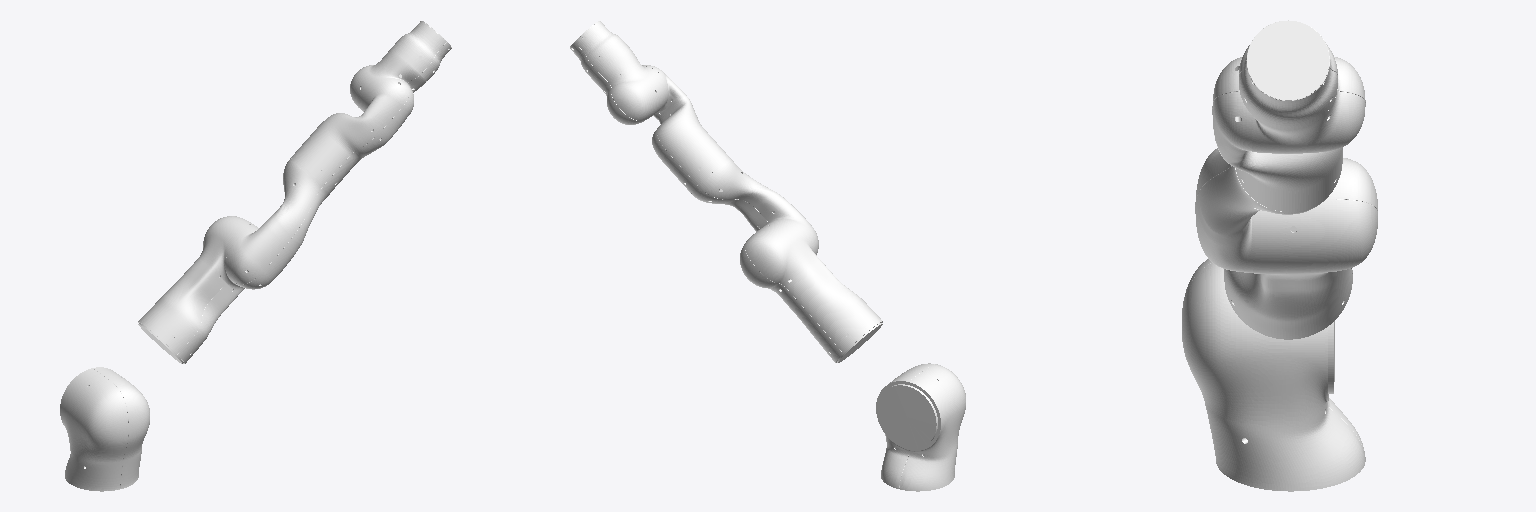
URDF robot description (optimo):
<?xml version="1.0" ?>
<!-- =================================================================================== -->
<!-- |    This document was autogenerated by xacro from optimo.urdf.xacro              | -->
<!-- |    EDITING THIS FILE BY HAND IS NOT RECOMMENDED                                 | -->
<!-- =================================================================================== -->
<robot name="optimo">
  <material name="white">
    <color rgba="1.0 1.0 1.0 1.0"/>
  </material>
  <link name="world"/>
<joint name="world_to_link0" type="fixed">
    <parent link="world"/>
    <child link="optimo_link0"/>
    <origin rpy="0 0 0" xyz="0 0 .27"/>
  </joint>
  <link name="optimo_link0">
    <visual>
      <geometry>
        <mesh filename="meshes/J0_clean.stl"/>
      </geometry>
      <material name="white"/>
    </visual>
    <collision>
      <geometry>
        <mesh filename="meshes/col0.stl"/>
      </geometry>
    </collision>
    <inertial>
      <origin xyz="0 0 0"/>
      <mass value="1"/>
      <inertia ixx="0" ixy="0.0" ixz="0.0" iyy="0" iyz="0.0" izz="0"/>
    </inertial>
  </link>
  <joint name="optimo_joint1" type="revolute">
    <origin rpy="0 0 0" xyz="0 0 0"/>
    <parent link="optimo_link0"/>
    <child link="optimo_link1"/>
    <axis xyz="0 0 1"/>
    <limit effort="79" lower="-2.0943951012" upper="2.0943951012" velocity="10"/>
    <dynamics damping=".5" friction=".2"/>
  </joint>
  <link name="optimo_link1">
    <visual>
      <origin rpy="1.5707963267948966 0 0" xyz="0 0 0"/>
      <geometry>
        <mesh filename="meshes/J1_clean.stl"/>
      </geometry>
      <material name="white"/>
    </visual>
    <collision>
      <origin rpy="1.5707963267948966 0 0" xyz="0 0 0"/>
      <geometry>
        <mesh filename="meshes/col1.stl"/>
      </geometry>
    </collision>
    <inertial>
      <origin xyz="0 -0.01549 -0.01635 "/>
      <mass value="4.152"/>
      <inertia ixx="0.01" ixy="0" ixz="0" iyy="0.01" iyz="0" izz="0.006"/>
    </inertial>
  </link>
  <joint name="optimo_joint2" type="revolute">
    <origin rpy="1.5707963267948966 0 0" xyz="0 0 0"/>
    <parent link="optimo_link1"/>
    <child link="optimo_link2"/>
    <axis xyz="0 0 1"/>
    <limit effort="95" lower="1.13446401315" upper="3.40339203945" velocity="10"/>
    <dynamics damping=".5" friction=".2"/>
  </joint>
  <link name="optimo_link2">
    <visual>
      <origin rpy="1.5707963267948966 0 0" xyz="0 0 0.003"/>
      <geometry>
        <mesh filename="meshes/J2_clean.stl"/>
      </geometry>
      <material name="white"/>
    </visual>
    <collision>
      <origin rpy="1.5707963267948966 0 0" xyz="0 0 0"/>
      <geometry>
        <mesh filename="meshes/col2.stl"/>
      </geometry>
    </collision>
    <inertial>
      <origin xyz="0 -0.05677 -0.05063 "/>
      <mass value="1.72"/>
      <inertia ixx="0.004" ixy="0" ixz="0" iyy="0.003" iyz="0" izz="0.005"/>
    </inertial>
  </link>
  <joint name="optimo_joint3" type="revolute">
    <origin rpy="1.5707963267948966 0 0" xyz="0.0 -0.397 0.003"/>
    <parent link="optimo_link2"/>
    <child link="optimo_link3"/>
    <axis xyz="0 0 1"/>
    <limit effort="32" lower="-2.0943951012" upper="2.0943951012" velocity="10"/>
    <dynamics damping=".5" friction=".2"/>
  </joint>
  <link name="optimo_link3">
    <visual>
      <origin rpy="-1.5707963267948966 0 0" xyz="0 0 0"/>
      <geometry>
        <mesh filename="meshes/J3_clean.stl"/>
      </geometry>
      <material name="white"/>
    </visual>
    <collision>
      <origin rpy="-1.5707963267948966 0 0" xyz="0 0 0"/>
      <geometry>
        <mesh filename="meshes/col3.stl"/>
      </geometry>
    </collision>
    <inertial>
      <origin xyz="0 0 -0.098"/>
      <mass value="4.310"/>
      <inertia ixx="0.013" ixy="0" ixz="0" iyy="0.013" iyz="0" izz="0.003"/>
    </inertial>
  </link>
  <joint name="optimo_joint4" type="revolute">
    <origin rpy="-1.5707963267948966 0 0" xyz="0 0 0"/>
    <parent link="optimo_link3"/>
    <child link="optimo_link4"/>
    <axis xyz="0 0 1"/>
    <limit effort="40" lower="-2.4434609514" upper="0.08726646254999999" velocity="10"/>
    <dynamics damping=".5" friction=".2"/>
  </joint>
  <link name="optimo_link4">
    <visual>
      <origin rpy="1.5707963267948966 0 0" xyz="0 0 0"/>
      <geometry>
        <mesh filename="meshes/J4_clean.stl"/>
      </geometry>
      <material name="white"/>
    </visual>
    <collision>
      <origin rpy="1.5707963267948966 0 0" xyz="0 0 0"/>
      <geometry>
        <mesh filename="meshes/col4.stl"/>
      </geometry>
    </collision>
    <inertial>
      <origin xyz="-.00001 -0.0688 0.048852"/>
      <mass value="1.09"/>
      <inertia ixx="0.004" ixy="0" ixz="0" iyy="0.0008" iyz="0" izz="0.004"/>
    </inertial>
  </link>
  <joint name="optimo_joint5" type="revolute">
    <origin rpy="1.5707963267948966 0 0" xyz="0 -0.4 0"/>
    <parent link="optimo_link4"/>
    <child link="optimo_link5"/>
    <axis xyz="0 0 1"/>
    <limit effort="15" lower="-2.6179938765" upper="2.6179938765" velocity="10"/>
    <dynamics damping=".5" friction=".2"/>
  </joint>
  <link name="optimo_link5">
    <visual>
      <origin rpy="-1.5707963267948966 0 0" xyz="0 0 0"/>
      <geometry>
        <mesh filename="meshes/J5_clean.stl"/>
      </geometry>
      <material name="white"/>
    </visual>
    <collision>
      <origin rpy="-1.5707963267948966 0 0" xyz="0 0 0"/>
      <geometry>
        <mesh filename="meshes/col5.stl"/>
      </geometry>
    </collision>
    <inertial>
      <origin xyz="0 0.008 -.085"/>
      <mass value="2.23"/>
      <inertia ixx="0.005" ixy="0" ixz="0" iyy="0.005" iyz="0" izz="0.002"/>
    </inertial>
  </link>
  <joint name="optimo_joint6" type="revolute">
    <origin rpy="-1.5707963267948966 0 0" xyz="0 0 0"/>
    <parent link="optimo_link5"/>
    <child link="optimo_link6"/>
    <axis xyz="0 0 1"/>
    <limit effort="15" lower="-2.00712863865" upper="2.00712863865" velocity="10"/>
    <dynamics damping=".5" friction=".2"/>
  </joint>
  <link name="optimo_link6">
    <visual>
      <origin rpy="1.5707963267948966 0 0" xyz="0 0 0"/>
      <geometry>
        <mesh filename="meshes/J6_clean.stl"/>
      </geometry>
      <material name="white"/>
    </visual>
    <collision>
      <origin rpy="1.5707963267948966 0 0" xyz="0 0 0"/>
      <geometry>
        <mesh filename="meshes/col6.stl"/>
      </geometry>
    </collision>
    <inertial>
      <origin xyz="0  -0.010855 0"/>
      <mass value="1.138"/>
      <inertia ixx="0.0006" ixy="0" ixz="0" iyy="0.0006" iyz="0" izz="0.0005"/>
    </inertial>
  </link>
  <joint name="optimo_joint7" type="revolute">
    <origin rpy="1.5707963267948966 0 0" xyz="0 0 0"/>
    <parent link="optimo_link6"/>
    <child link="optimo_link7"/>
    <axis xyz="0 0 1"/>
    <limit effort="15" lower="-2.0943951012" upper="2.0943951012" velocity="10"/>
    <dynamics damping=".5" friction=".2"/>
  </joint>
  <link name="optimo_link7">
    <visual>
      <origin xyz="0.0 0.0 0.011"/>
      <geometry>
        <mesh filename="meshes/J7_clean.stl"/>
      </geometry>
      <material name="white"/>
    </visual>
    <collision>
      <geometry>
        <mesh filename="meshes/col7.stl"/>
      </geometry>
    </collision>
    <inertial>
      <origin xyz="0 0 0.0"/>
      <mass value=".88"/>
      <inertia ixx="0.0007" ixy="0" ixz="0" iyy="0.0007" iyz="0" izz="0.0003"/>
    </inertial>
  </link>
</robot>

--- Render facts (derived) ---
Views: 3 orthographic renders of the robot side by side, from view 1: azimuth 30°, elevation 25°; view 2: azimuth 150°, elevation 25°; view 3: azimuth 270°, elevation 25°.
Robot: optimo — 9 links, 8 joints (7 revolute, 1 fixed); root link world; default pose: all joints at 0 but 1 set to mid-range because 0 is outside their limits (optimo_joint2 = 2.27).
Visible links, largest first — view 1: optimo_link1, optimo_link3, optimo_link5, optimo_link4, optimo_link6, optimo_link7; view 2: optimo_link3, optimo_link1, optimo_link5, optimo_link4, optimo_link6, optimo_link7; view 3: optimo_link1, optimo_link3, optimo_link7, optimo_link5, optimo_link4, optimo_link6.
Link boxes in pixels (x1,y1,x2,y2): optimo_link1: (60,367,149,491); optimo_link3: (138,216,258,363); optimo_link5: (290,79,413,192); optimo_link4: (225,159,329,289); optimo_link6: (350,49,425,111); optimo_link7: (391,21,451,81); optimo_link3: (740,219,882,362); optimo_link1: (876,363,965,491); optimo_link5: (642,65,729,193); optimo_link4: (692,158,818,254); optimo_link6: (594,50,668,124); optimo_link7: (570,21,630,80); optimo_link1: (1182,259,1365,491); optimo_link3: (1224,158,1377,339); optimo_link7: (1239,20,1337,129); optimo_link5: (1212,57,1342,211); optimo_link4: (1195,148,1335,272); optimo_link6: (1247,57,1365,153).
Bounding box of the posed robot: 0.8257 × 0.1838 × 0.7809 m (x, y, z).
Meshes: 8 distinct files referenced, 6 mesh visuals loaded (6 binary STL); not drawn: 2 (reference not matched to a file when rendering).
